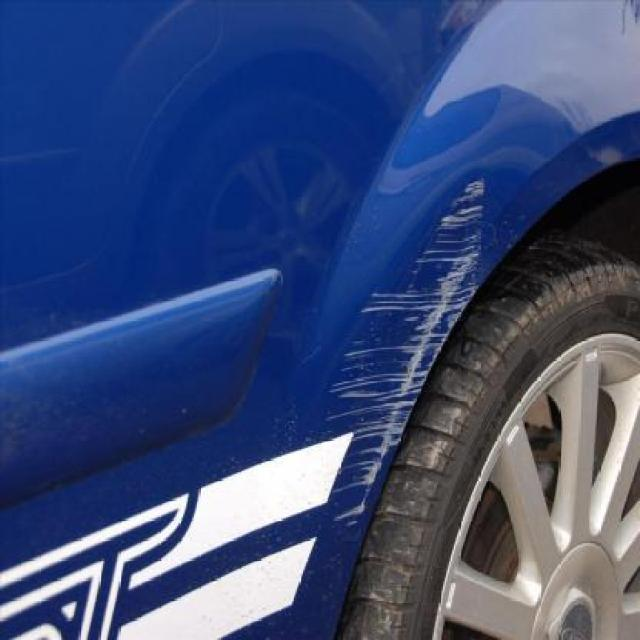scratch: (360, 264, 480, 343), (401, 179, 490, 266), (332, 342, 429, 404), (353, 396, 412, 464), (336, 466, 381, 532)
